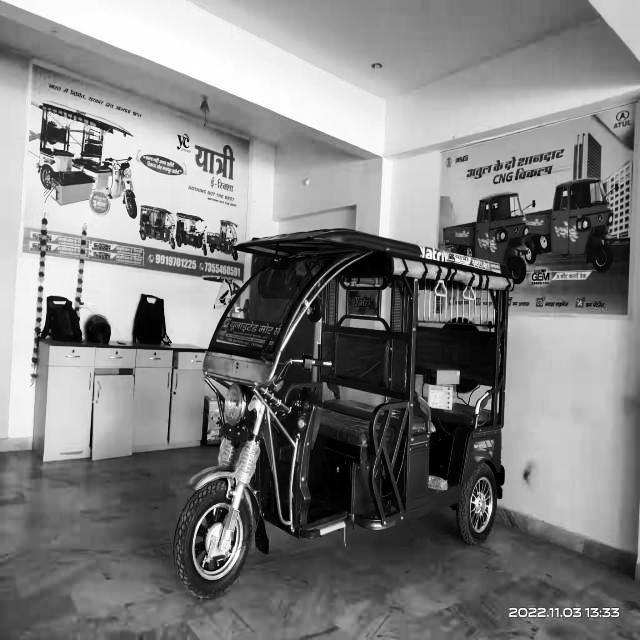Toto: (168, 220, 511, 592)
